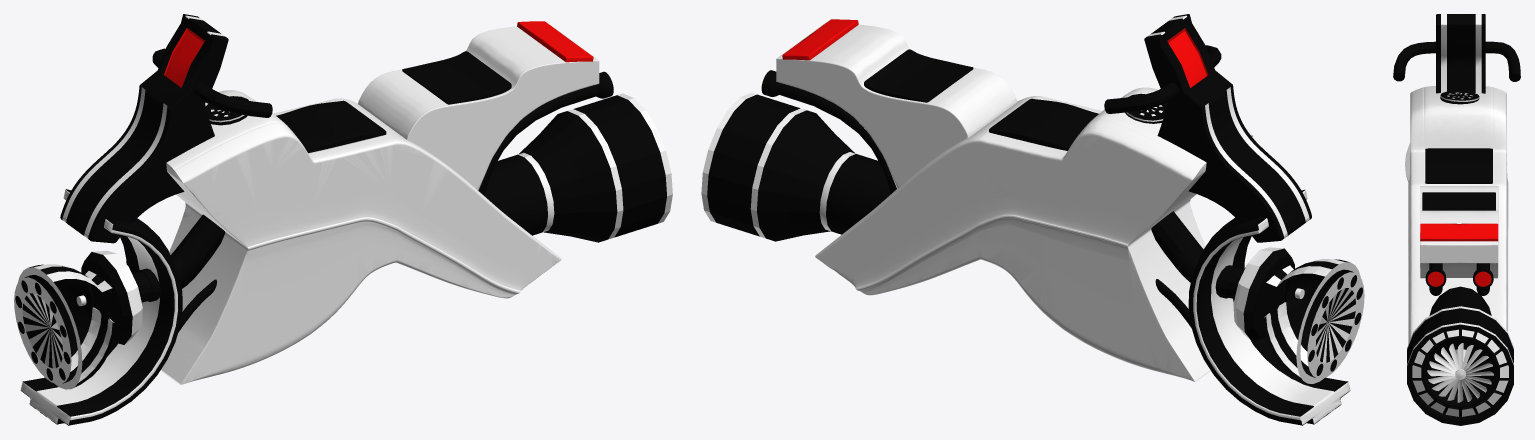
3 renders of one model, left to right at view 1: azimuth 30°, elevation 25°; view 2: azimuth 150°, elevation 25°; view 3: azimuth 270°, elevation 25°, orthographic. The views are drawn at different scales.
Parts seen in each view (by area): view 1: 3DSMeshMatrix (×12); view 2: 3DSMeshMatrix (×12); view 3: 3DSMeshMatrix (×14).
Boxes of the visible parts, box(x1,y1,x2,y2) form: 3DSMeshMatrix (×12): box(14, 14, 672, 425); 3DSMeshMatrix (×12): box(701, 14, 1364, 425); 3DSMeshMatrix (×14): box(1393, 14, 1520, 425).
Size of the model in its own units: 151 by 83.83 by 34.56.
